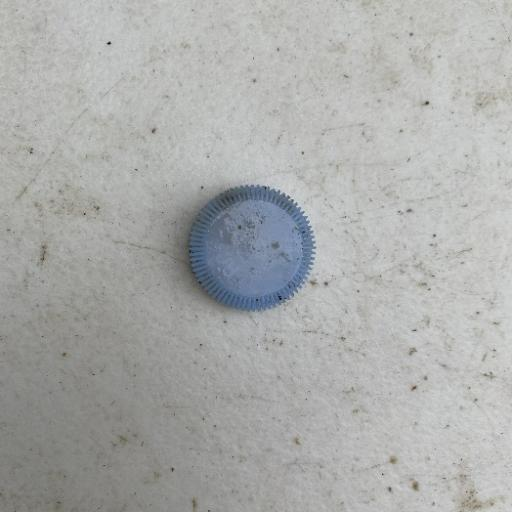Plastic: (184, 182, 318, 314)
